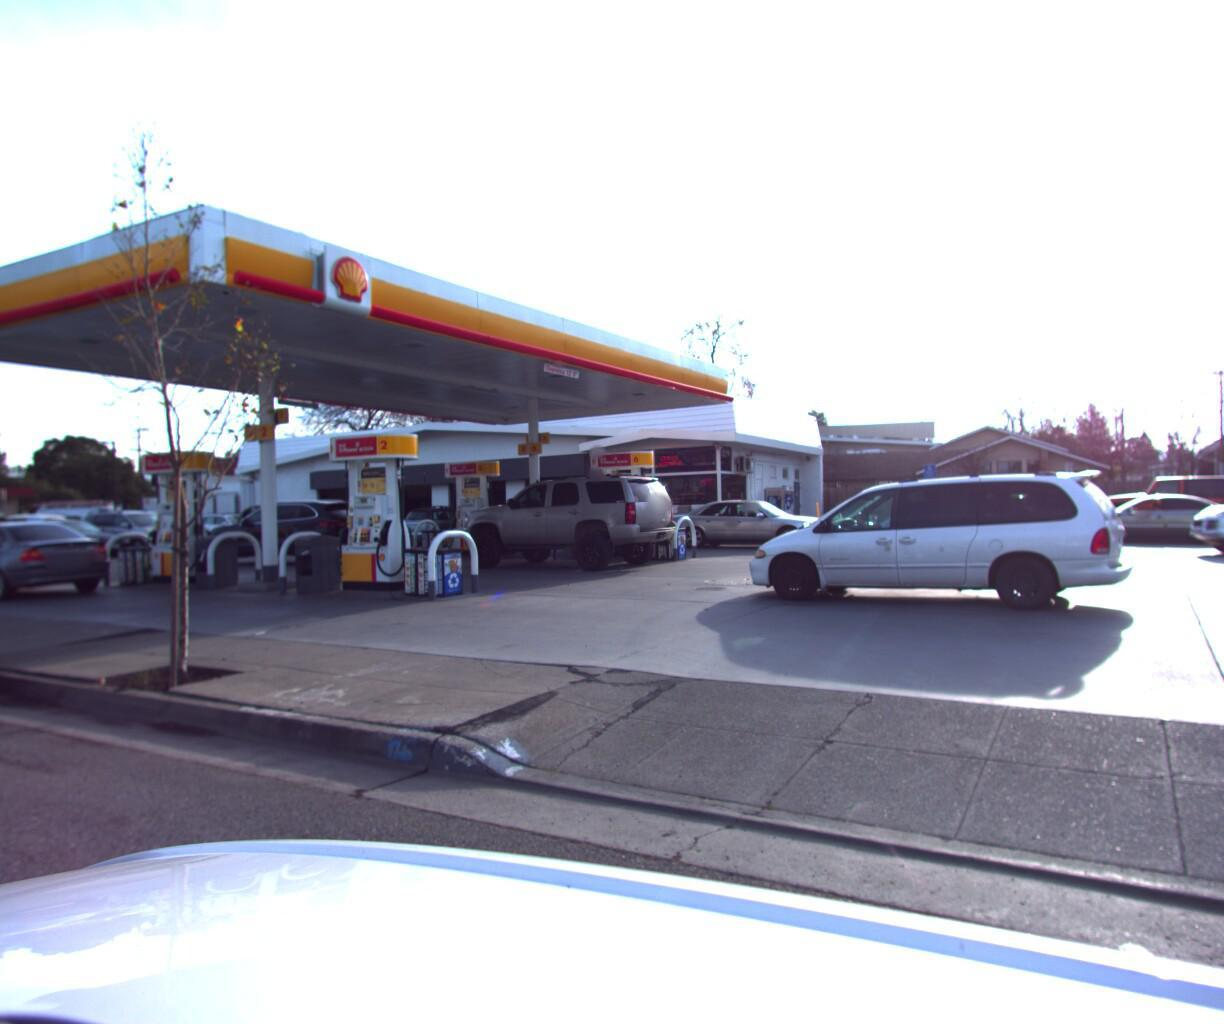car: (730, 455, 1146, 615), (0, 524, 122, 609), (0, 517, 95, 565), (0, 520, 42, 573), (0, 538, 1, 752)
